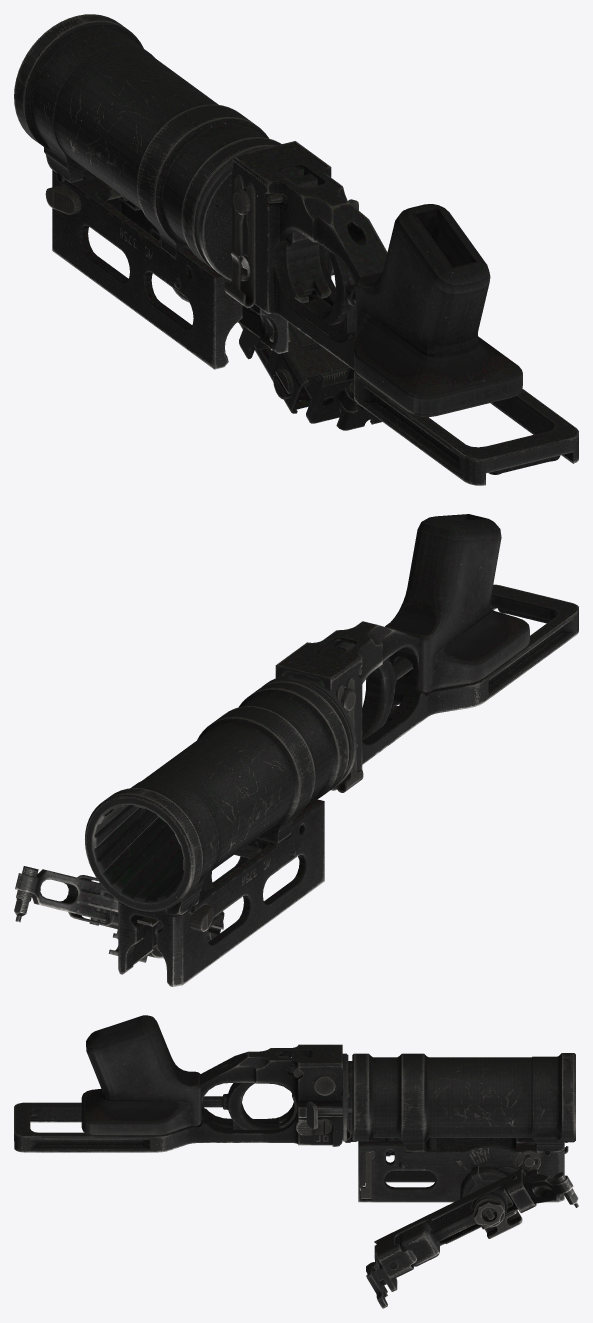
3 renders of one model, top to bottom at view 1: azimuth 30°, elevation 25°; view 2: azimuth 150°, elevation 25°; view 3: azimuth 270°, elevation 25°, orthographic. The views are drawn at different scales.
Visible parts, largest first — view 1: TW_62e7e7bbe6da9612f743f1e0_range400_PZ_Import; view 2: TW_62e7e7bbe6da9612f743f1e0_range400_PZ_Import; view 3: TW_62e7e7bbe6da9612f743f1e0_range400_PZ_Import.
Part boxes in pixels (x1,y1,x2,y2): TW_62e7e7bbe6da9612f743f1e0_range400_PZ_Import: (14, 14, 578, 485); TW_62e7e7bbe6da9612f743f1e0_range400_PZ_Import: (14, 514, 578, 986); TW_62e7e7bbe6da9612f743f1e0_range400_PZ_Import: (14, 1015, 578, 1308).
Bounding box in the file's own units: 0.0529 × 0.186 × 0.0879.
Materials: 1 (1 with a texture image).
